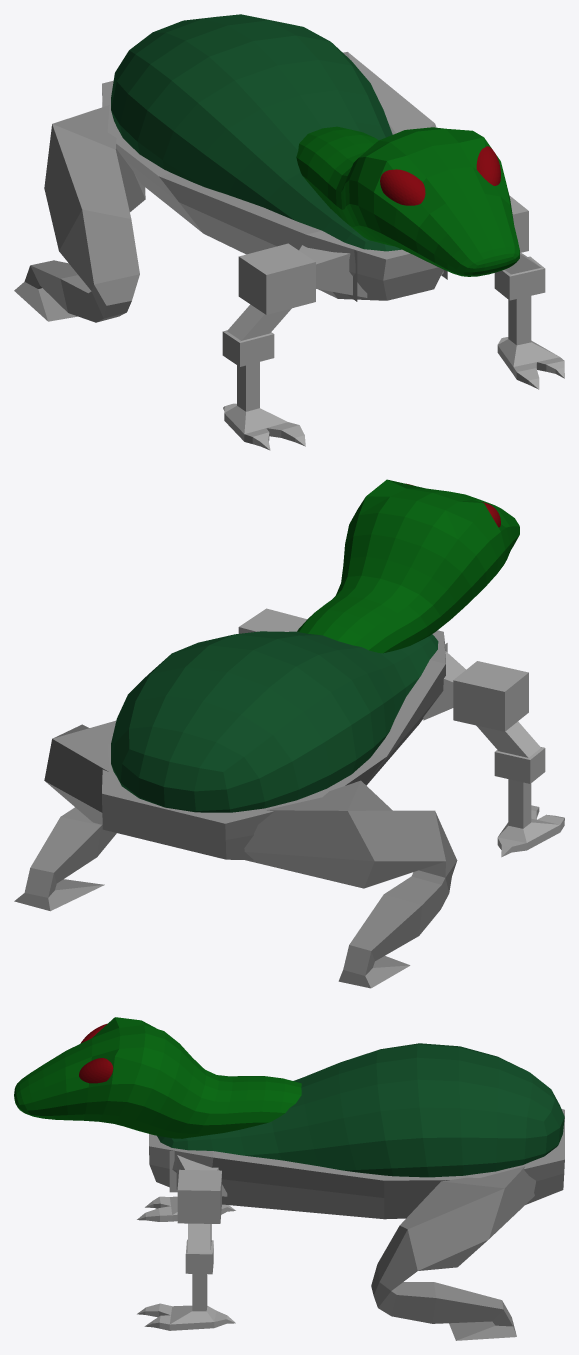
Rendered from BoneFrog.fbx.
The picture shows the model from 3 angles, top to bottom: view 1: azimuth 30°, elevation 25°; view 2: azimuth 150°, elevation 25°; view 3: azimuth 270°, elevation 25°; orthographic projection. The views are drawn at different scales.
Visible parts, largest first — view 1: CreatureBody, CreatureHead, HindLegs, FrontLegs, MetalicBodyHousing, Eyes; view 2: CreatureBody, HindLegs, CreatureHead, FrontLegs, MetalicBodyHousing; view 3: CreatureBody, CreatureHead, HindLegs, MetalicBodyHousing, FrontLegs, Eyes.
Part boxes in pixels (<box>): CreatureBody: <box>111,14,401,251</box>; CreatureHead: <box>296,126,519,276</box>; HindLegs: <box>14,52,436,322</box>; FrontLegs: <box>222,195,564,450</box>; MetalicBodyHousing: <box>102,81,443,300</box>; Eyes: <box>380,146,500,205</box>; CreatureBody: <box>111,631,438,812</box>; HindLegs: <box>14,720,457,988</box>; CreatureHead: <box>297,479,519,653</box>; FrontLegs: <box>238,608,564,857</box>; MetalicBodyHousing: <box>102,630,445,860</box>; CreatureBody: <box>157,1043,564,1177</box>; CreatureHead: <box>14,1017,301,1138</box>; HindLegs: <box>371,1166,535,1340</box>; MetalicBodyHousing: <box>149,1109,564,1219</box>; FrontLegs: <box>137,1151,235,1330</box>; Eyes: <box>79,1023,113,1083</box>.
Bounding box in the file's own units: 210 × 98.5 × 141.
